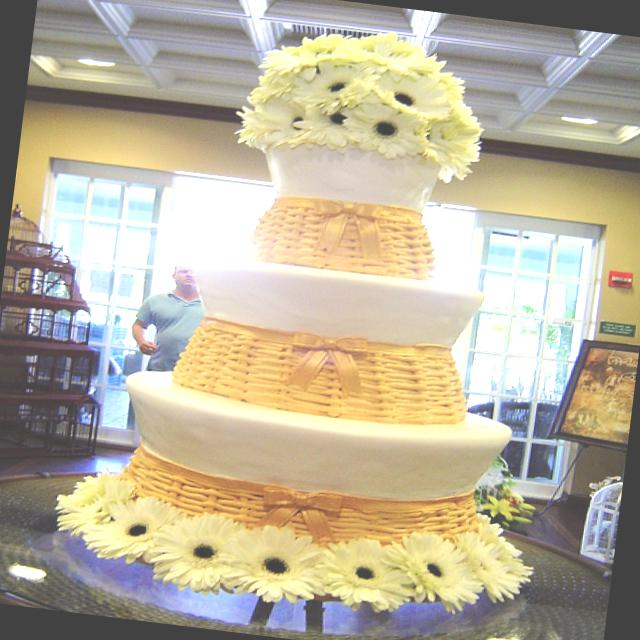Vehicle: (459, 390, 572, 488)
